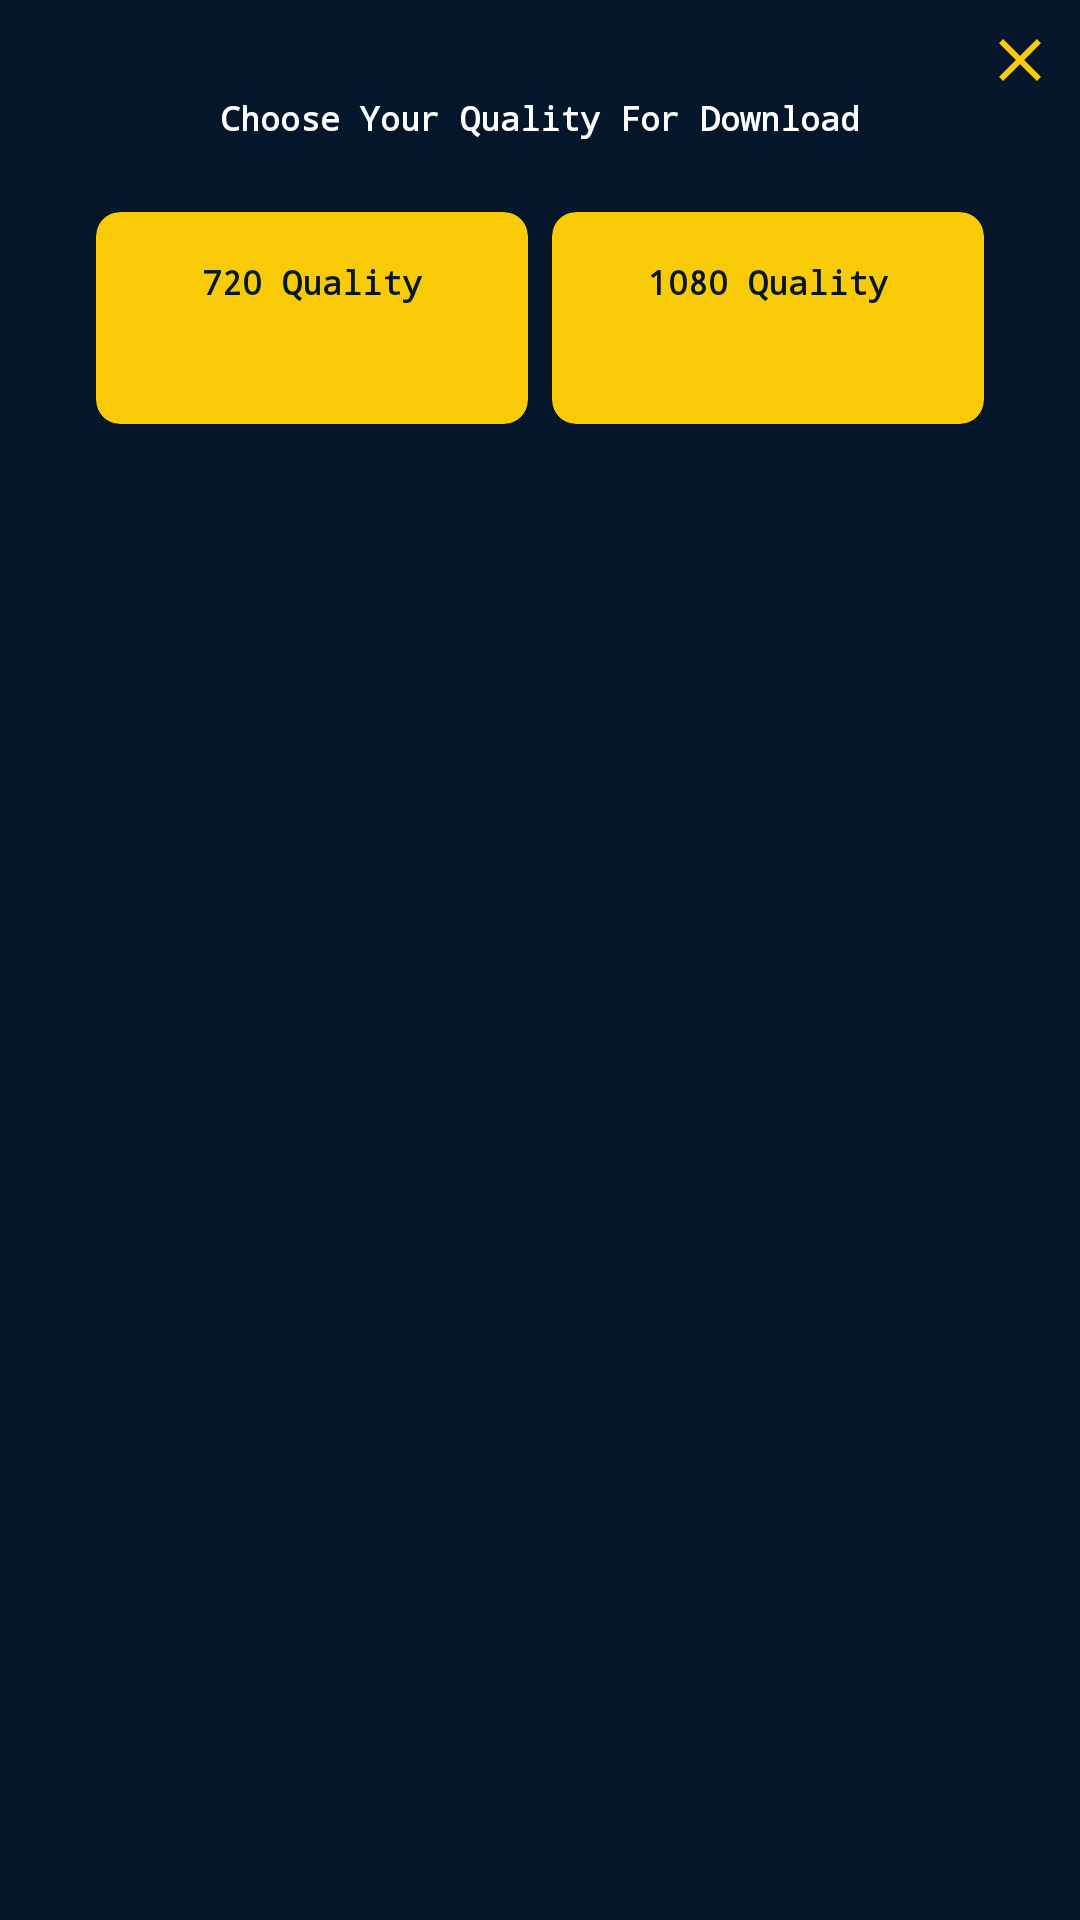

Where icons sit on this 1080 × 1920 app screen, as (x1, y1, x2, y2):
close: (999, 39, 1041, 81)
